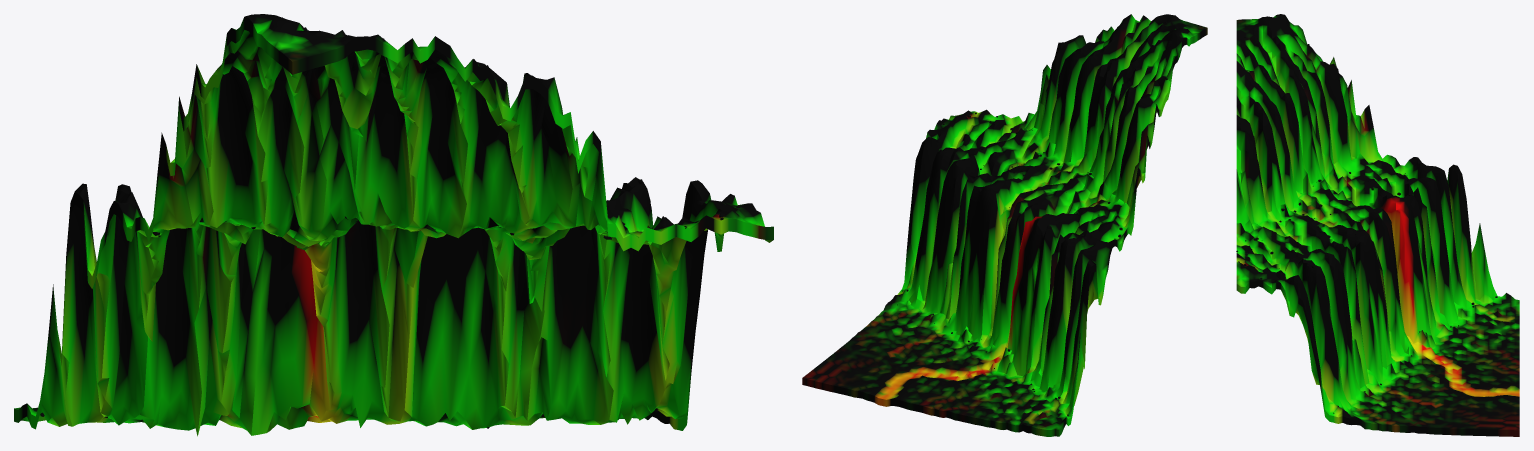
The model's file is Terrain_06_05.fbx.
The picture shows the model from 3 angles, left to right: view 1: azimuth 30°, elevation 25°; view 2: azimuth 150°, elevation 25°; view 3: azimuth 270°, elevation 25°; orthographic projection. The views are drawn at different scales.
Visible parts, largest first — view 1: Terrain_06_05_LOD0; view 2: Terrain_06_05_LOD0; view 3: Terrain_06_05_LOD0.
Part boxes in pixels (x1=…): Terrain_06_05_LOD0: x1=14, y1=14, x2=773, y2=436; Terrain_06_05_LOD0: x1=802, y1=14, x2=1207, y2=436; Terrain_06_05_LOD0: x1=1236, y1=14, x2=1519, y2=436.
Size of what is drawn, in the model's own units: 384 by 458 by 384.
